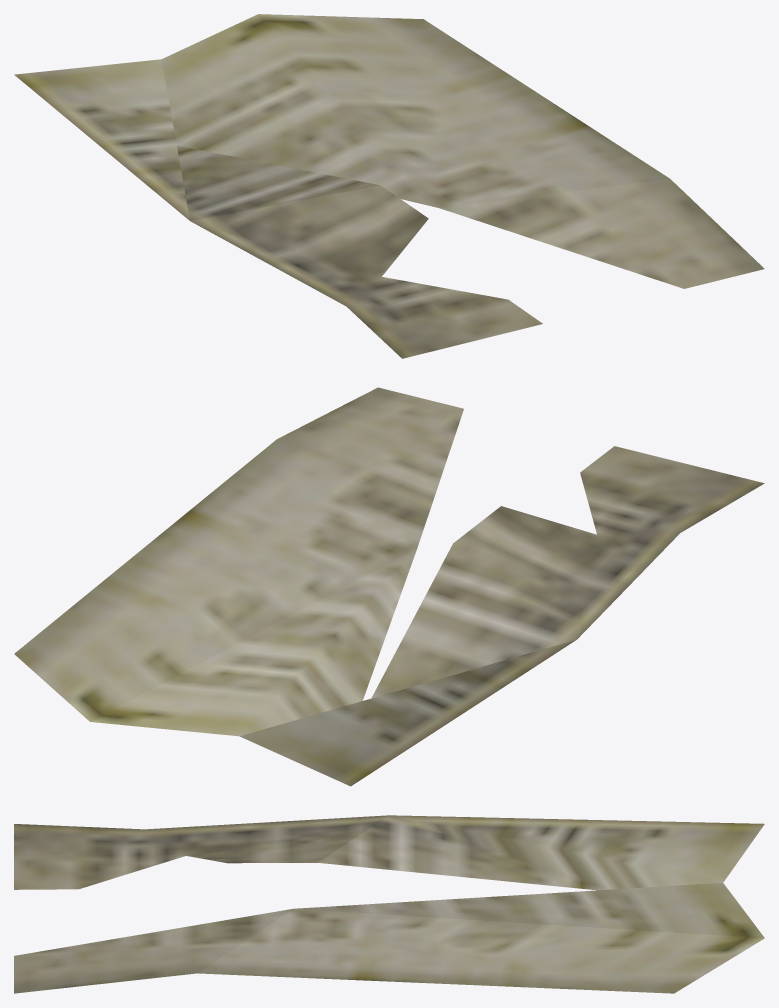
File: M_Home_Garden_paper11.fbx
3 views of the same model, one above another, from view 1: azimuth 30°, elevation 25°; view 2: azimuth 150°, elevation 25°; view 3: azimuth 270°, elevation 25° (orthographic). The views are drawn at different scales.
Parts seen in each view (by area): view 1: M_Home_Garden_paper11; view 2: M_Home_Garden_paper11; view 3: M_Home_Garden_paper11.
Part boxes in pixels (x1=…): M_Home_Garden_paper11: x1=14, y1=14, x2=764, y2=358; M_Home_Garden_paper11: x1=14, y1=387, x2=764, y2=786; M_Home_Garden_paper11: x1=14, y1=815, x2=764, y2=993.
Bounding box in the file's own units: 28.83 × 4.3 × 50.93.
